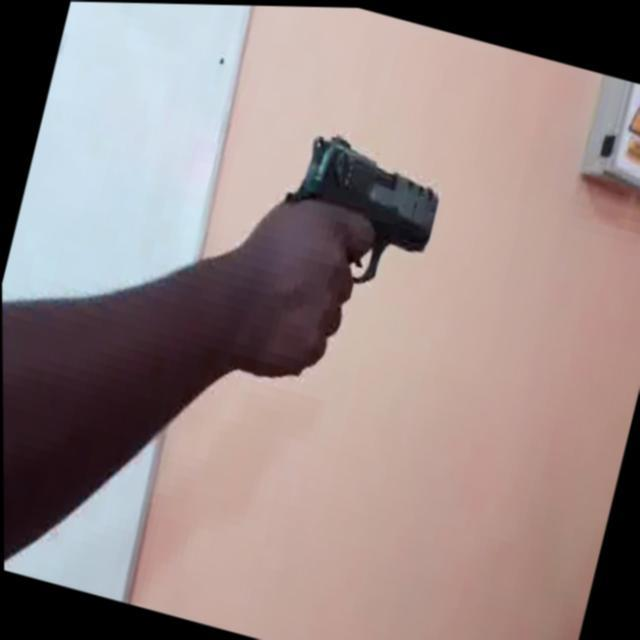weapon: (264, 119, 449, 304)
